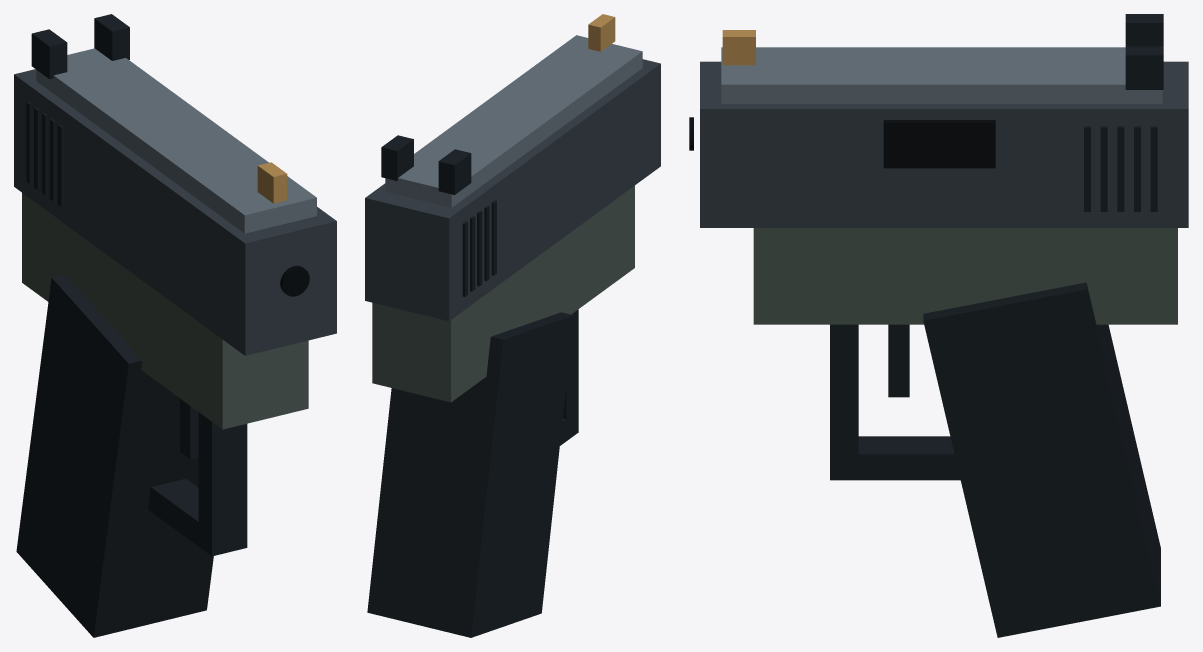
File: FSA_WPN_Pistol_001_Sidekick.glb
3 renders of one model, left to right at view 1: azimuth 30°, elevation 25°; view 2: azimuth 150°, elevation 25°; view 3: azimuth 270°, elevation 25°, orthographic. The views are drawn at different scales.
Visible parts, largest first — view 1: GripCore, Slide, Frame, SlideTop, GuardFront, GuardBottom, RearSight_-0p016, RearSight_0p016, FrontSight, Trigger, Bore, SlideSerration_-1_4 (+4 smaller); view 2: GripCore, Slide, Frame, SlideTop, RearSight_-0p016, GuardFront, RearSight_0p016, FrontSight, SlideSerration_-1_0, SlideSerration_-1_4, SlideSerration_-1_3, SlideSerration_-1_1 (+1 smaller); view 3: GripCore, Slide, Frame, SlideTop, EjectionPort, GuardBottom, GuardFront, RearSight_0p016, Trigger, RearSight_-0p016, FrontSight.
Part boxes in pixels (x1,y1,x2,y2): GripCore: [16, 274, 213, 637]; Slide: [14, 69, 336, 355]; Frame: [22, 193, 308, 429]; SlideTop: [36, 48, 316, 233]; GuardFront: [198, 412, 247, 544]; GuardBottom: [148, 478, 247, 556]; RearSight_-0p016: [31, 29, 67, 79]; RearSight_0p016: [94, 14, 129, 60]; FrontSight: [257, 162, 287, 203]; Trigger: [180, 398, 198, 458]; Bore: [280, 265, 309, 296]; SlideSerration_-1_4: [57, 124, 63, 207]; GripCore: [367, 312, 573, 637]; Slide: [365, 59, 660, 321]; Frame: [372, 185, 634, 402]; SlideTop: [385, 35, 642, 207]; RearSight_-0p016: [438, 149, 471, 194]; GuardFront: [563, 309, 578, 431]; RearSight_0p016: [381, 135, 413, 180]; FrontSight: [588, 14, 615, 51]; SlideSerration_-1_0: [462, 221, 467, 296]; SlideSerration_-1_4: [491, 200, 496, 275]; SlideSerration_-1_3: [484, 205, 489, 281]; SlideSerration_-1_1: [470, 216, 475, 291]; GripCore: [923, 282, 1160, 637]; Slide: [700, 61, 1188, 227]; Frame: [753, 228, 1177, 324]; SlideTop: [721, 47, 1162, 103]; EjectionPort: [883, 120, 995, 168]; GuardBottom: [830, 436, 960, 480]; GuardFront: [830, 324, 858, 469]; RearSight_0p016: [1125, 46, 1163, 89]; Trigger: [888, 324, 909, 397]; RearSight_-0p016: [1125, 14, 1163, 46]; FrontSight: [722, 30, 755, 65].
Size of the model in its own units: 0.058 by 0.2661 by 0.2095.
